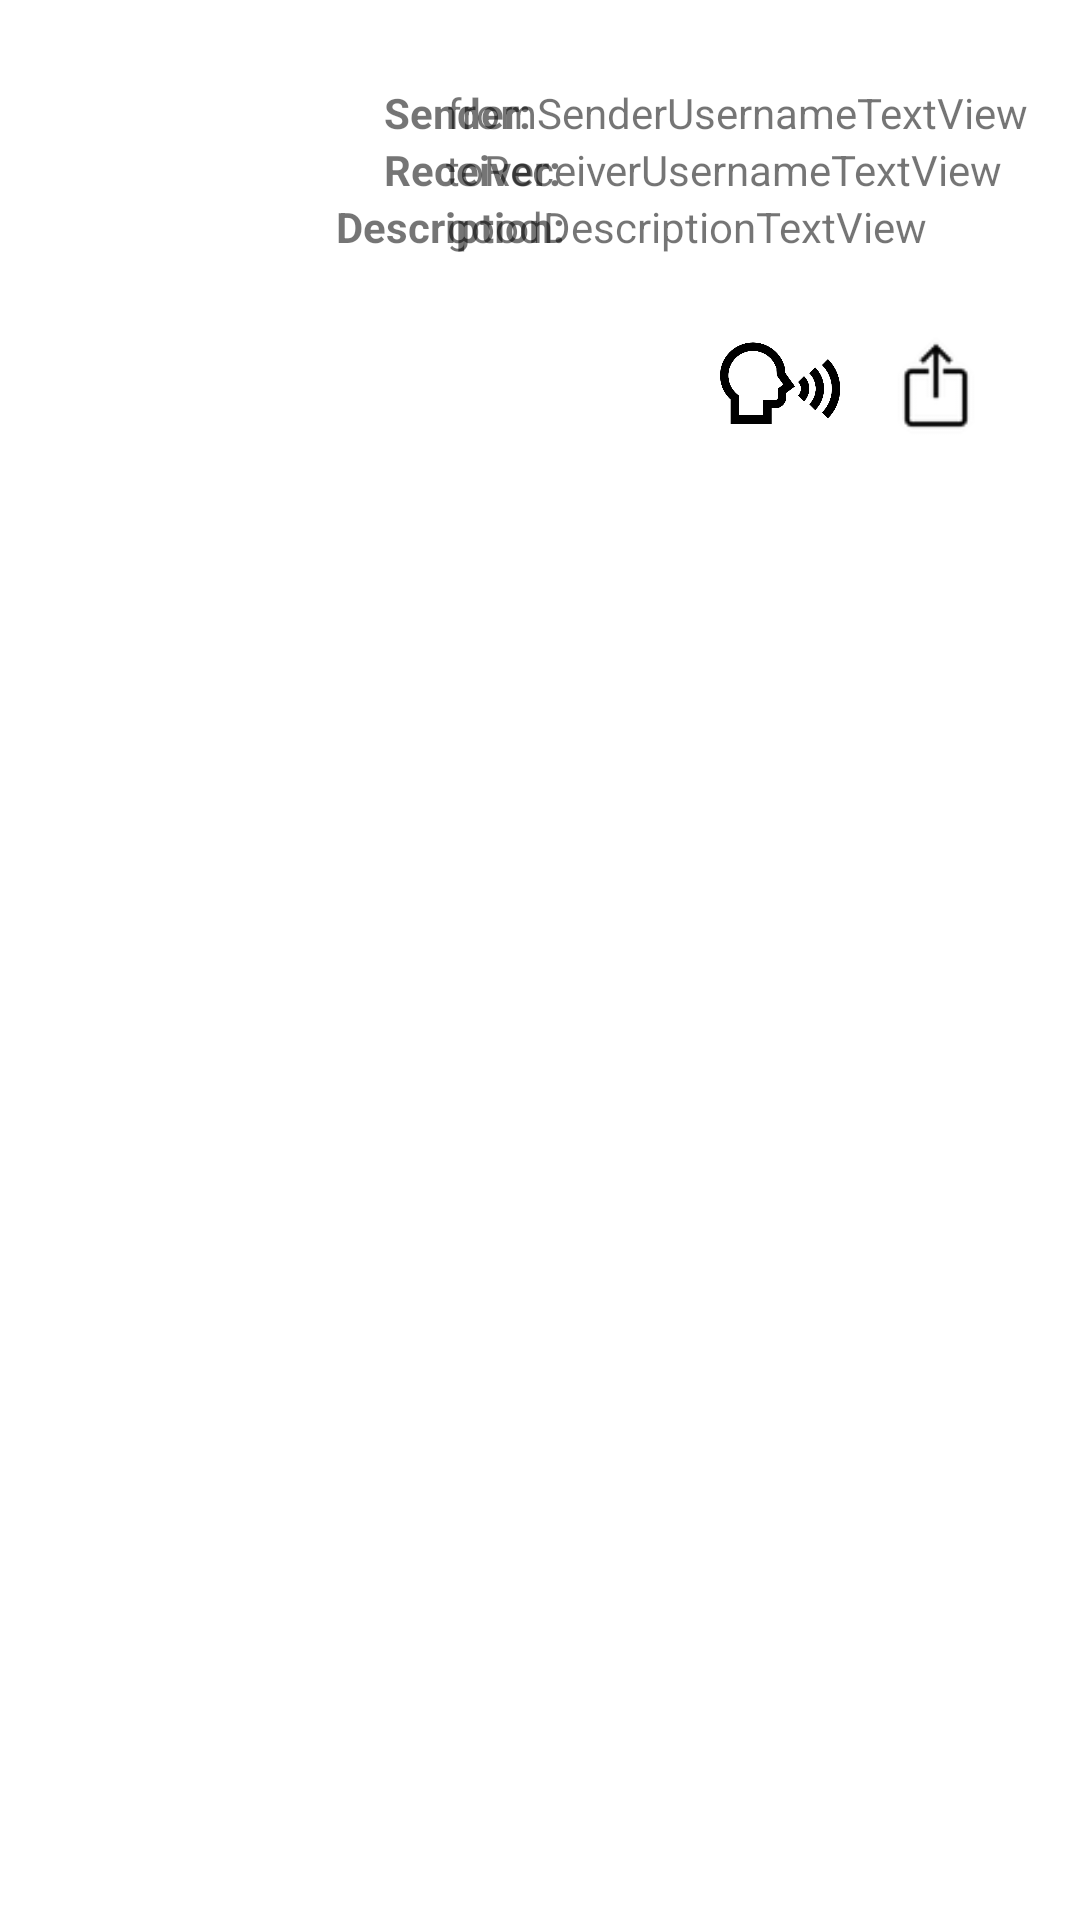

Named icons in this screenshot (1080×1920) and their centers, point (x, y):
share: point (936, 386)
speak: point (780, 383)
